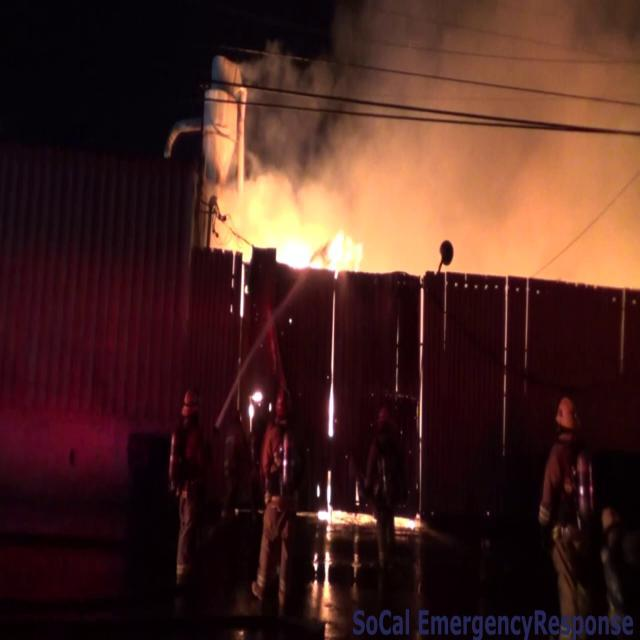Smoke: (251, 0, 639, 260)
